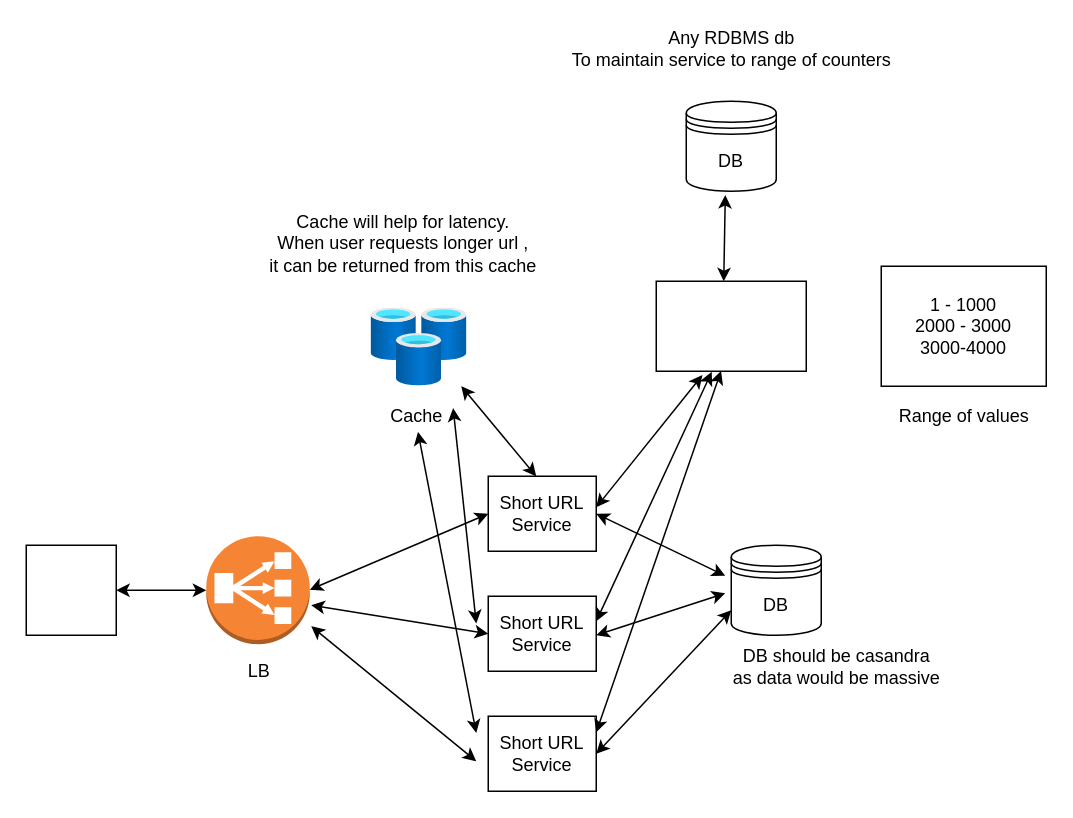
Image size: 1073x818. Some labels were removed from this diagram. Here are the shapes that lost their labels. From the top down, the box of each, then its label:
(655, 280, 806, 371): Token service / Apache ZooKeeper service
(25, 544, 116, 635): Long to short URL service
